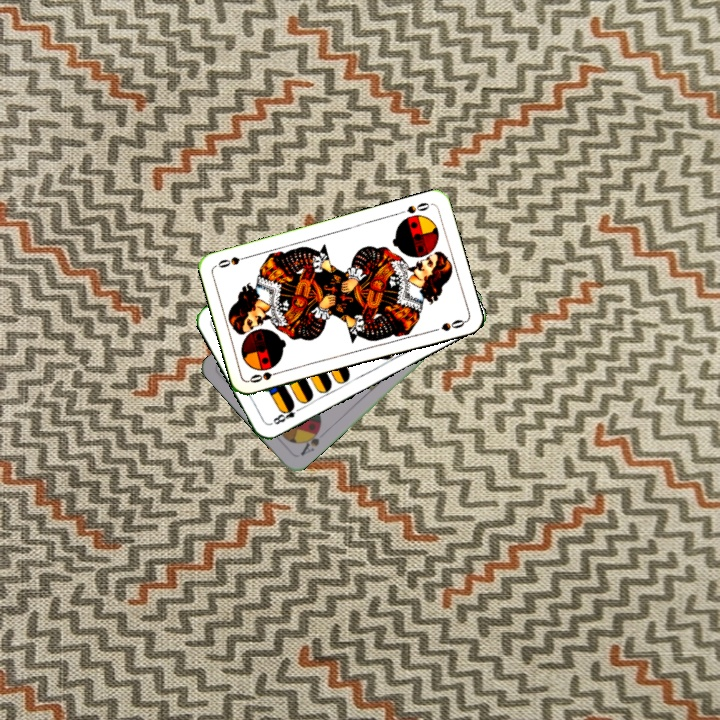E8: (267, 400, 305, 427)
SA: (296, 423, 323, 458)
SO: (245, 366, 285, 385), (394, 198, 434, 217)
